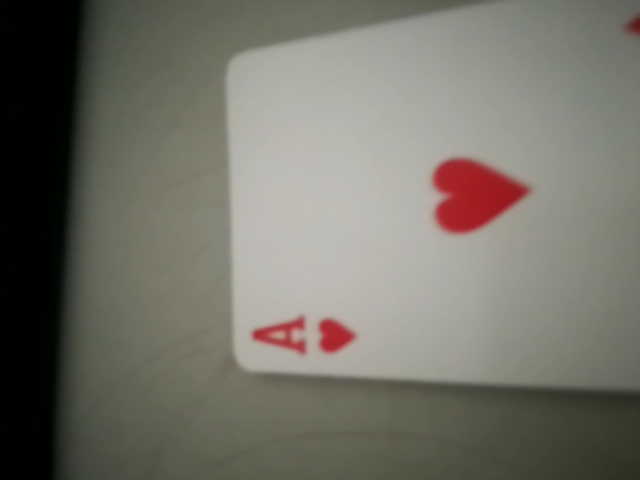hx a: (243, 301, 369, 372)
